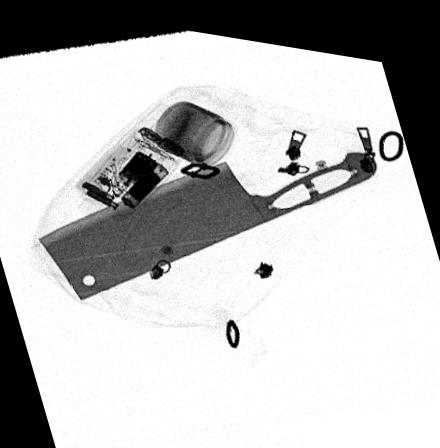Knife: (37, 139, 378, 298)
